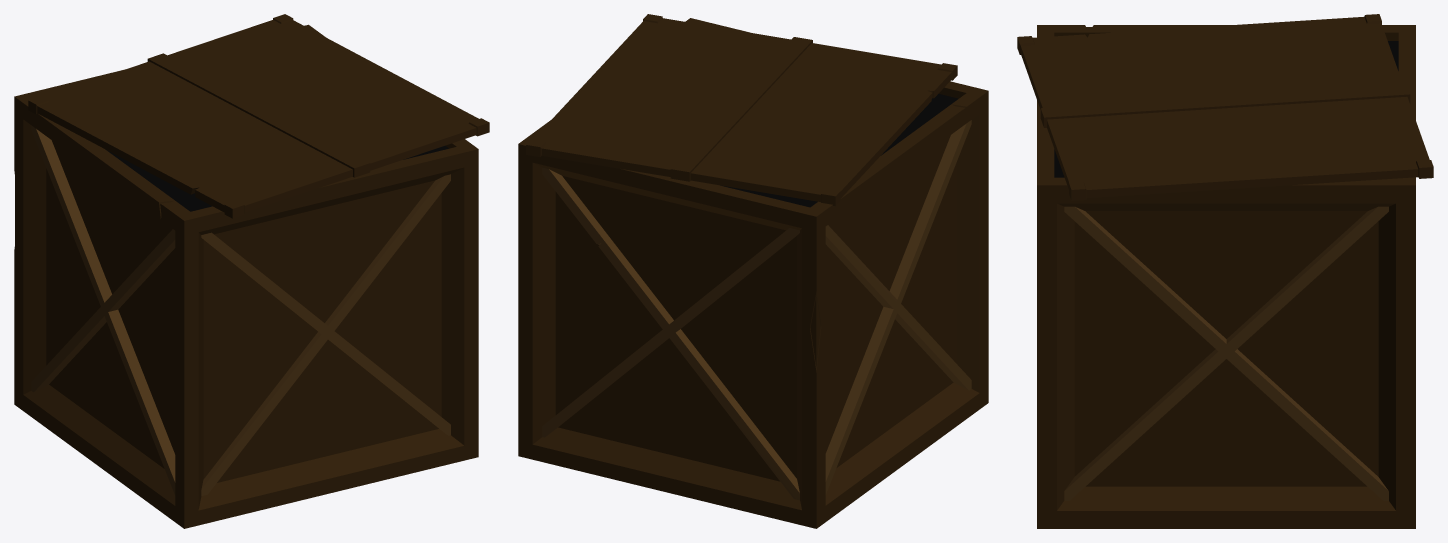
3 views of the same model, side by side, from view 1: azimuth 30°, elevation 25°; view 2: azimuth 150°, elevation 25°; view 3: azimuth 270°, elevation 25° (orthographic). The views are drawn at different scales.
Parts seen in each view (by area): view 1: polySurface3; view 2: polySurface3; view 3: polySurface3.
Part boxes in pixels (x1=…): polySurface3: x1=14, y1=14, x2=489, y2=528; polySurface3: x1=518, y1=14, x2=988, y2=528; polySurface3: x1=1017, y1=14, x2=1433, y2=528.
Size of the model in its own units: 36.36 by 34.1 by 36.36.
